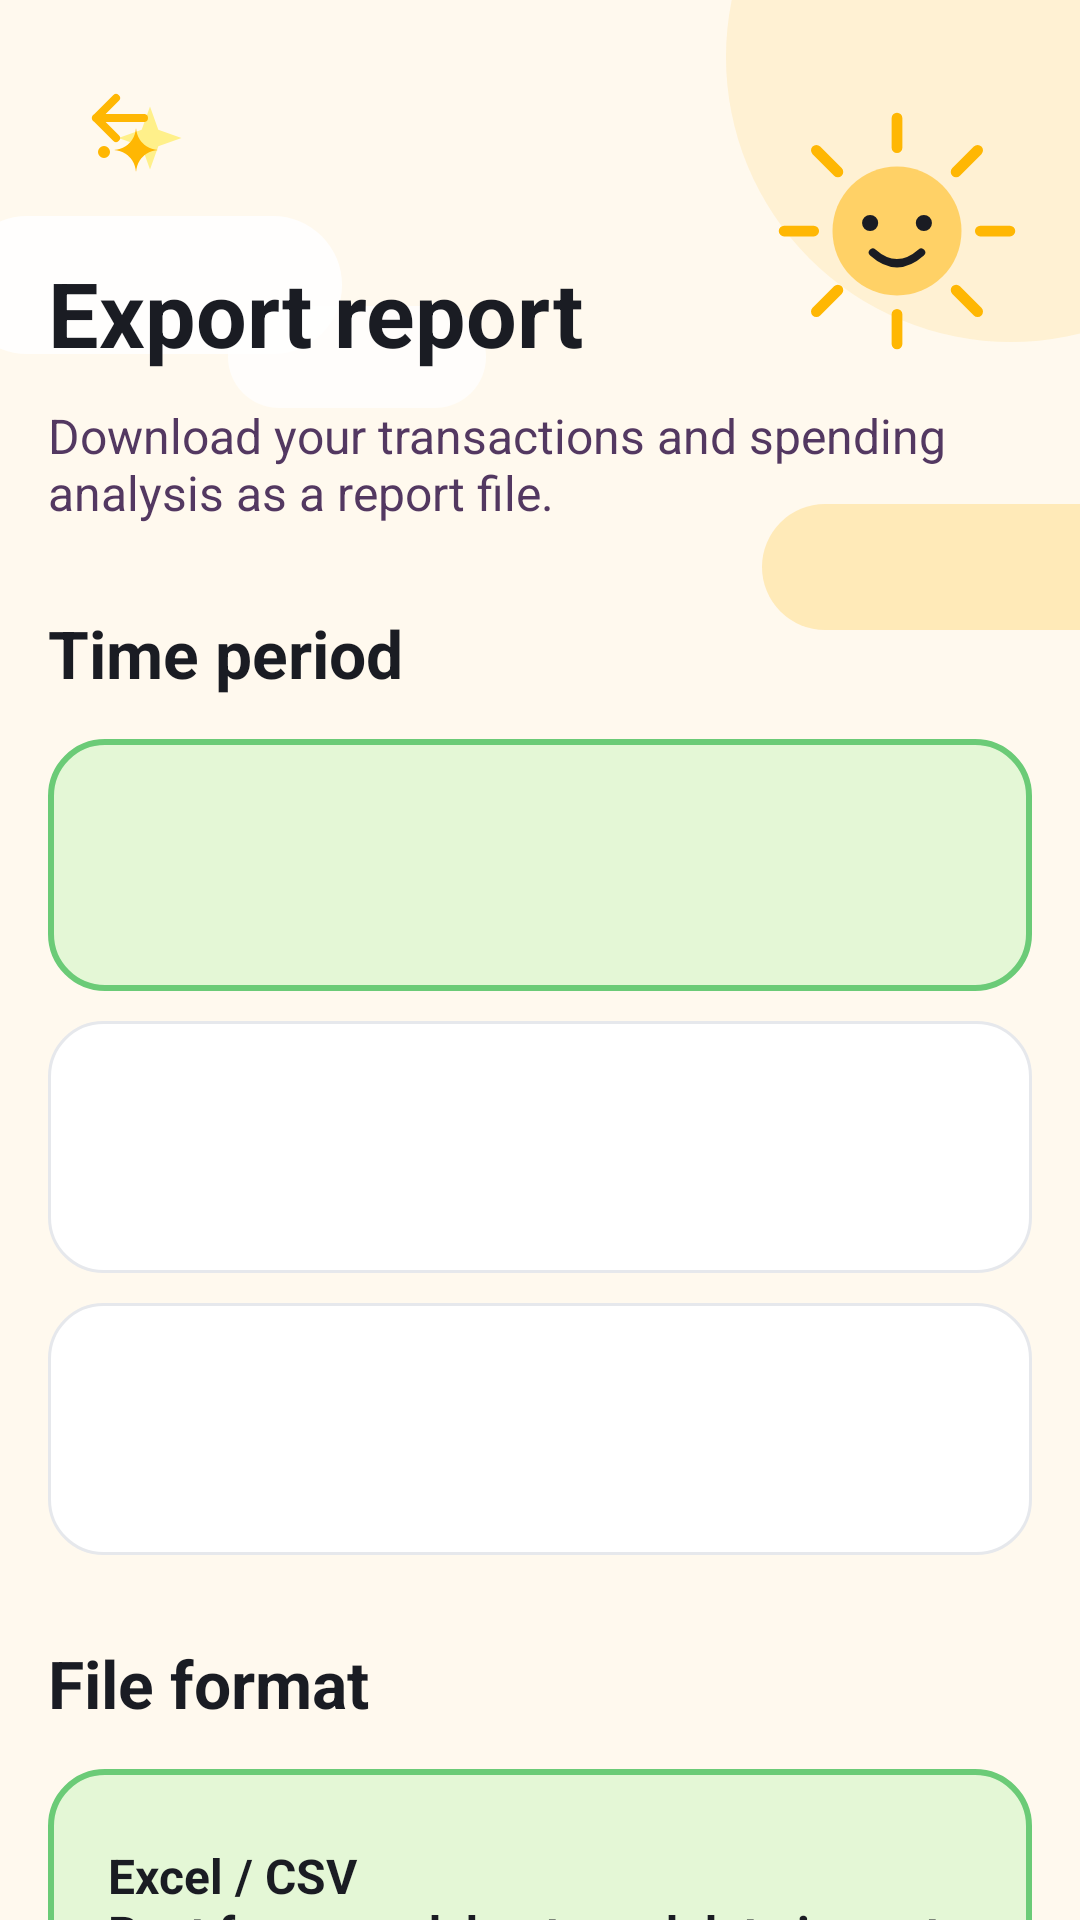

Screen size 1080 × 1920. Icon name, then its center in pixels as point (x, y):
arrow back: point (136, 132)
